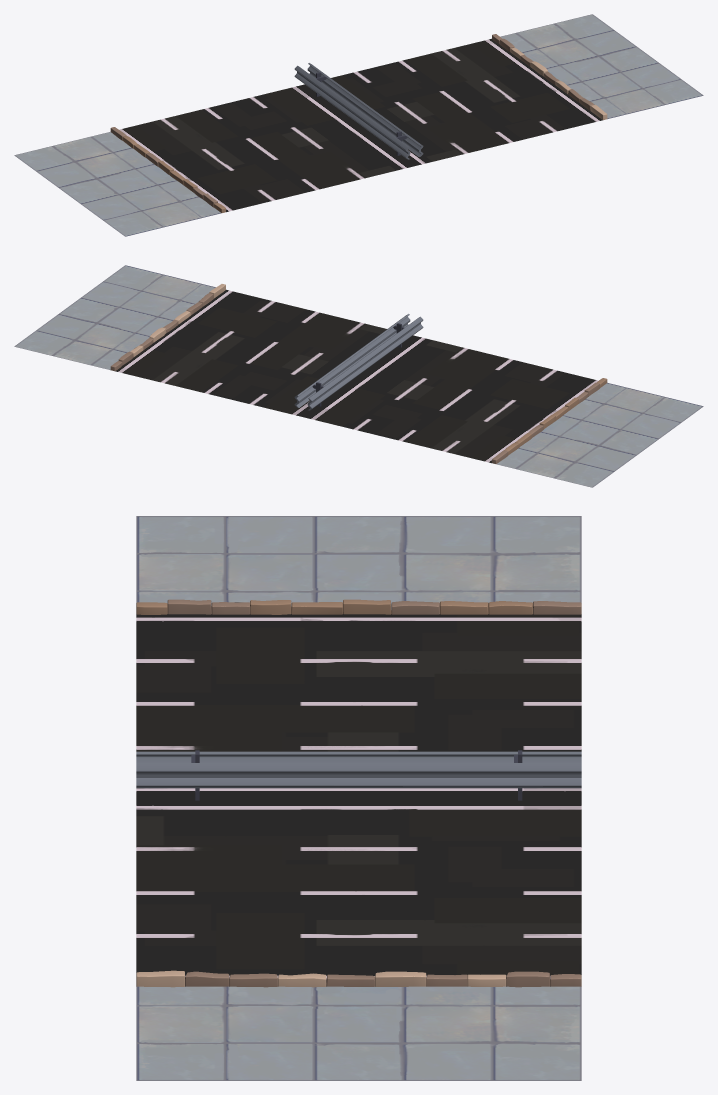
Rendered from CityRoad_8LineStraight.fbx.
3 views of the same model, one above another, from view 1: azimuth 30°, elevation 25°; view 2: azimuth 150°, elevation 25°; view 3: azimuth 270°, elevation 25° (orthographic). The views are drawn at different scales.
Parts seen in each view (by area): view 1: CityRoad_8LineStraight_mesh; view 2: CityRoad_8LineStraight_mesh; view 3: CityRoad_8LineStraight_mesh.
Boxes of the visible parts, left/top/right/bottom form: CityRoad_8LineStraight_mesh: left=14, top=14, right=703, bottom=236; CityRoad_8LineStraight_mesh: left=14, top=265, right=703, bottom=487; CityRoad_8LineStraight_mesh: left=136, top=516, right=581, bottom=1080.
Bounding box in the file's own units: 3000 × 114 × 1000.
